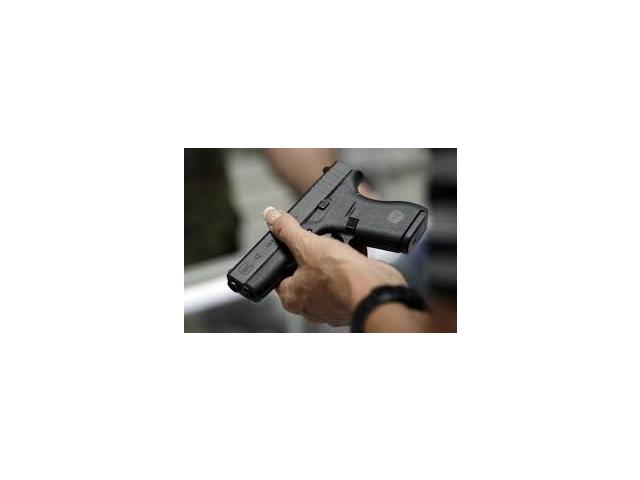pistol: (224, 160, 432, 303)
